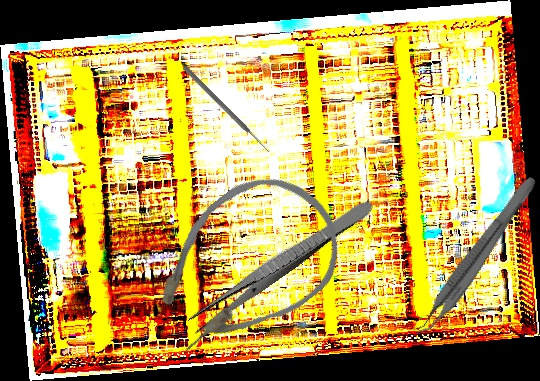Cannula: (122, 150, 364, 381)
Dressing Forceps: (184, 193, 377, 337)
Pusher: (181, 64, 272, 155)
Tissue Forceps: (410, 168, 540, 343)
